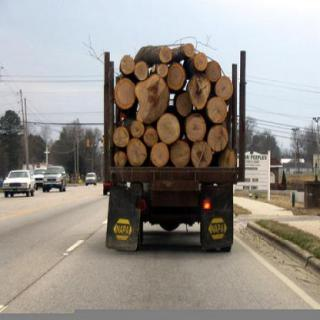Normal_vehicle: (96, 38, 250, 258)
